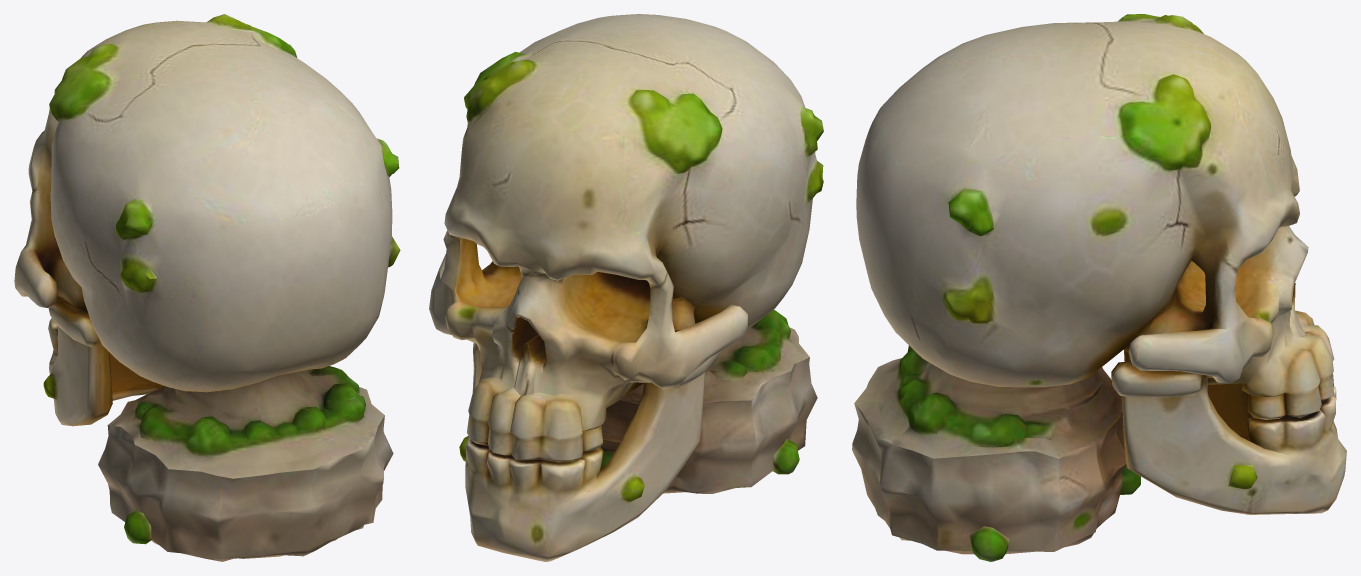
The model's file is hg-skull.glb.
3 renders of one model, left to right at view 1: azimuth 30°, elevation 25°; view 2: azimuth 150°, elevation 25°; view 3: azimuth 270°, elevation 25°, orthographic. The views are drawn at different scales.
Parts seen in each view (by area): view 1: hg-skull; view 2: hg-skull; view 3: hg-skull.
Part boxes in pixels (x1,y1,x2,y2): hg-skull: (14,14,400,561); hg-skull: (429,14,823,561); hg-skull: (852,14,1346,561).
Size of the model in its own units: 4.28 by 6.08 by 5.88.
1 material, 1 textured.
